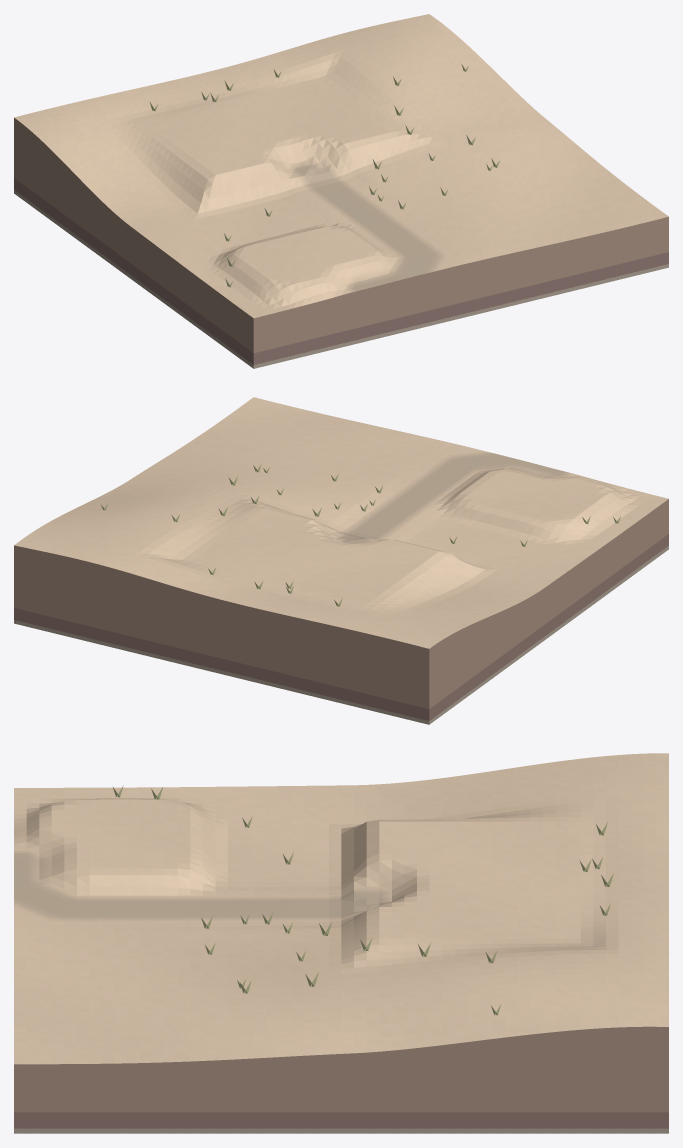
Rendered from v_J412_proc.glb.
3 renders of one model, top to bottom at view 1: azimuth 30°, elevation 25°; view 2: azimuth 150°, elevation 25°; view 3: azimuth 270°, elevation 25°, orthographic. The views are drawn at different scales.
Parts seen in each view (by area): view 1: proc_ground, proc_skirt, proc_grass; view 2: proc_ground, proc_skirt, proc_grass; view 3: proc_ground, proc_skirt, proc_grass.
Part boxes in pixels (x1,y1,x2,y2): proc_ground: (14, 14, 668, 318); proc_skirt: (14, 118, 668, 368); proc_grass: (150, 64, 499, 287); proc_ground: (14, 397, 668, 648); proc_skirt: (14, 499, 668, 724); proc_grass: (101, 464, 620, 606); proc_ground: (14, 753, 668, 1064); proc_skirt: (14, 1026, 668, 1133); proc_grass: (113, 785, 613, 1015).
Bounding box in the file's own units: 8 × 1.59 × 8.
